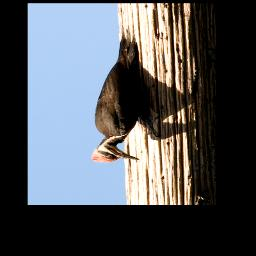Woodpecker: (90, 29, 160, 163)
